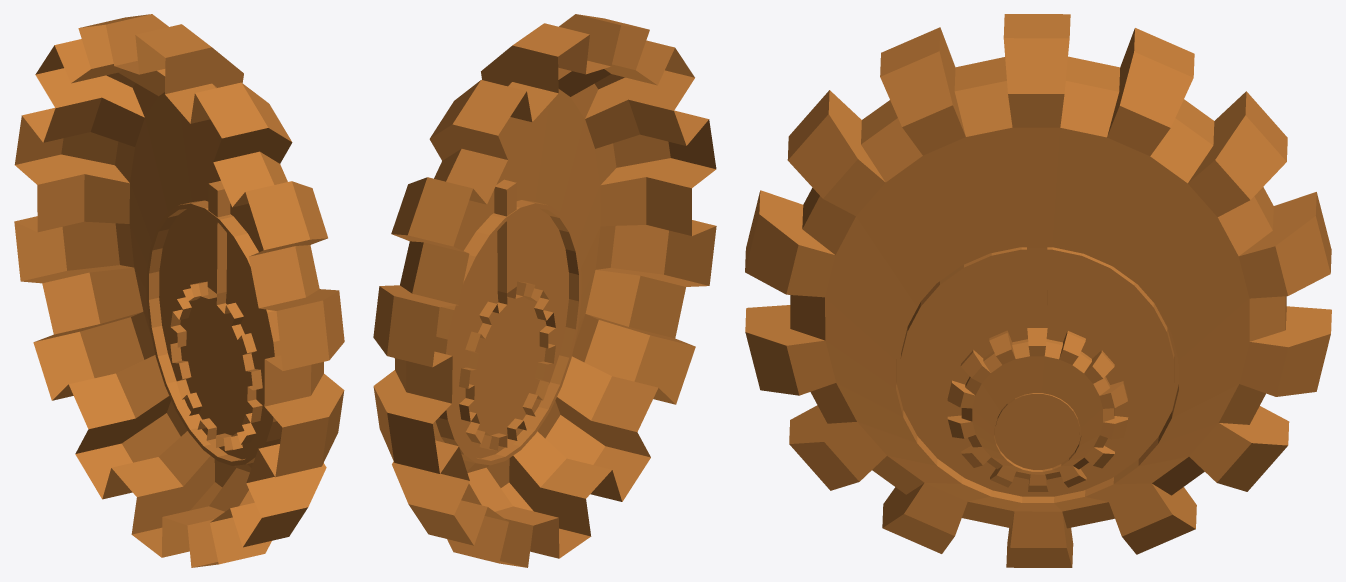
File: door-OBS.fbx
The picture shows the model from 3 angles, left to right: view 1: azimuth 30°, elevation 25°; view 2: azimuth 150°, elevation 25°; view 3: azimuth 270°, elevation 25°; orthographic projection. The views are drawn at different scales.
Parts seen in each view (by area): view 1: Cylinder.002; view 2: Cylinder.002; view 3: Cylinder.002.
Part boxes in pixels (left/top/right/bottom): Cylinder.002: left=14, top=14, right=344, bottom=567; Cylinder.002: left=373, top=14, right=716, bottom=567; Cylinder.002: left=745, top=14, right=1331, bottom=567.
Size of the model in its own units: 42.75 by 221 by 221.
